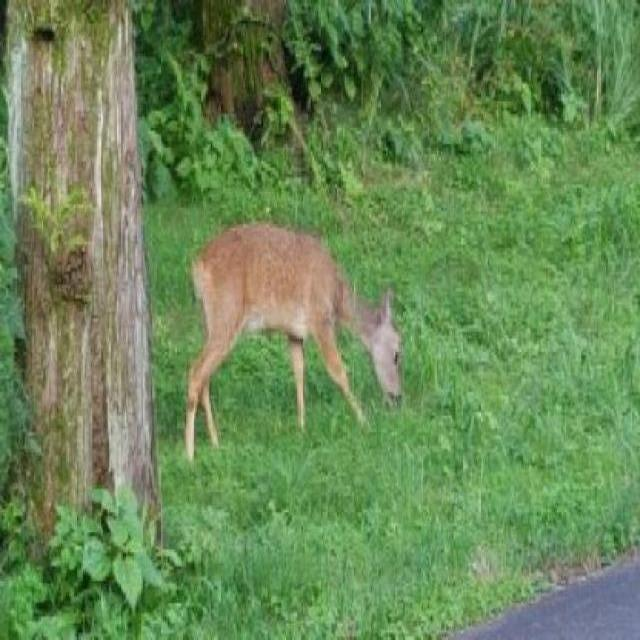deer: (166, 186, 412, 477)
